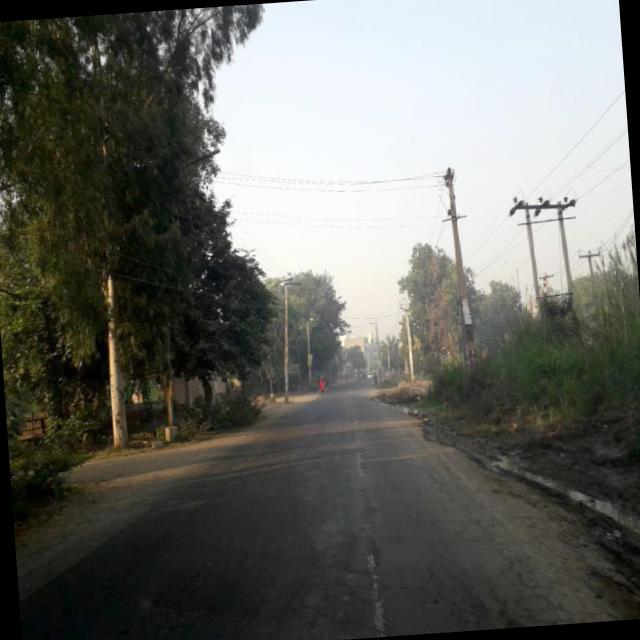crack: (238, 494, 537, 640)
